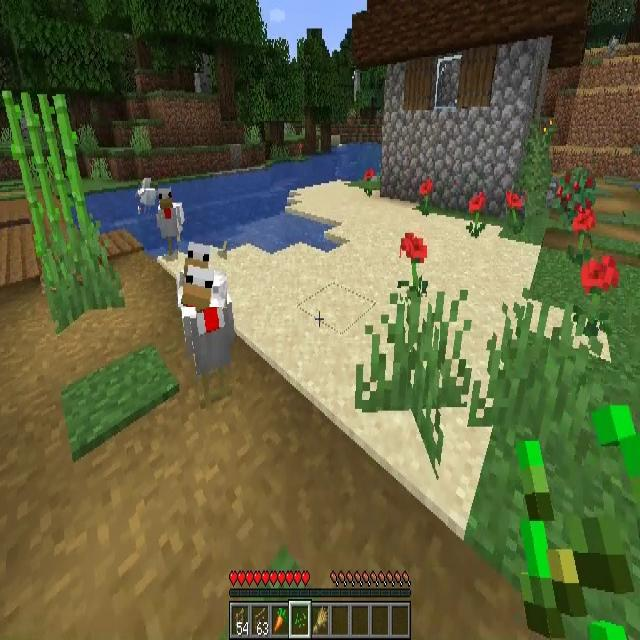duck: (180, 272, 234, 398), (178, 241, 227, 307), (158, 189, 185, 251), (138, 178, 158, 214)
flower: (578, 251, 614, 337), (401, 232, 427, 297), (572, 207, 594, 262), (506, 190, 525, 237), (466, 194, 486, 238), (418, 180, 432, 215), (364, 168, 374, 199)
